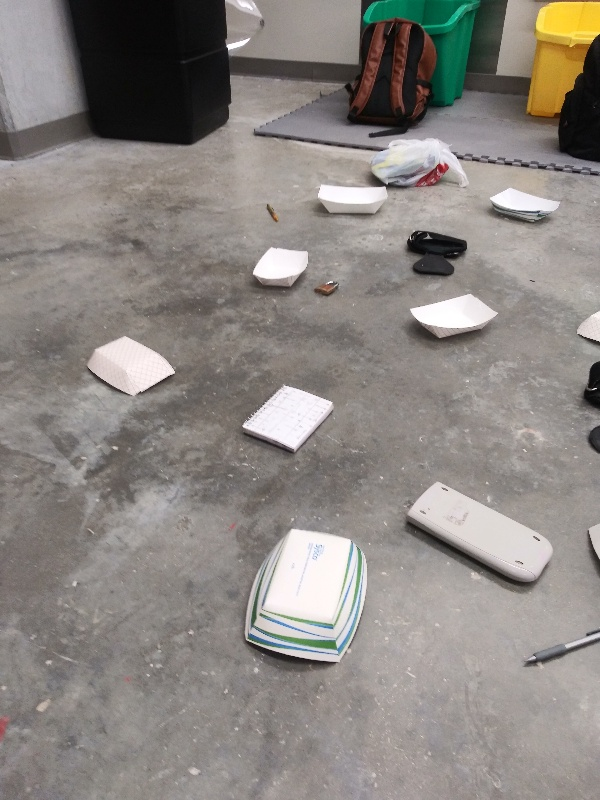plate: (242, 526, 372, 670), (81, 333, 178, 401), (406, 292, 503, 339), (485, 184, 567, 224), (314, 183, 393, 221), (248, 245, 311, 290), (571, 301, 600, 351)
